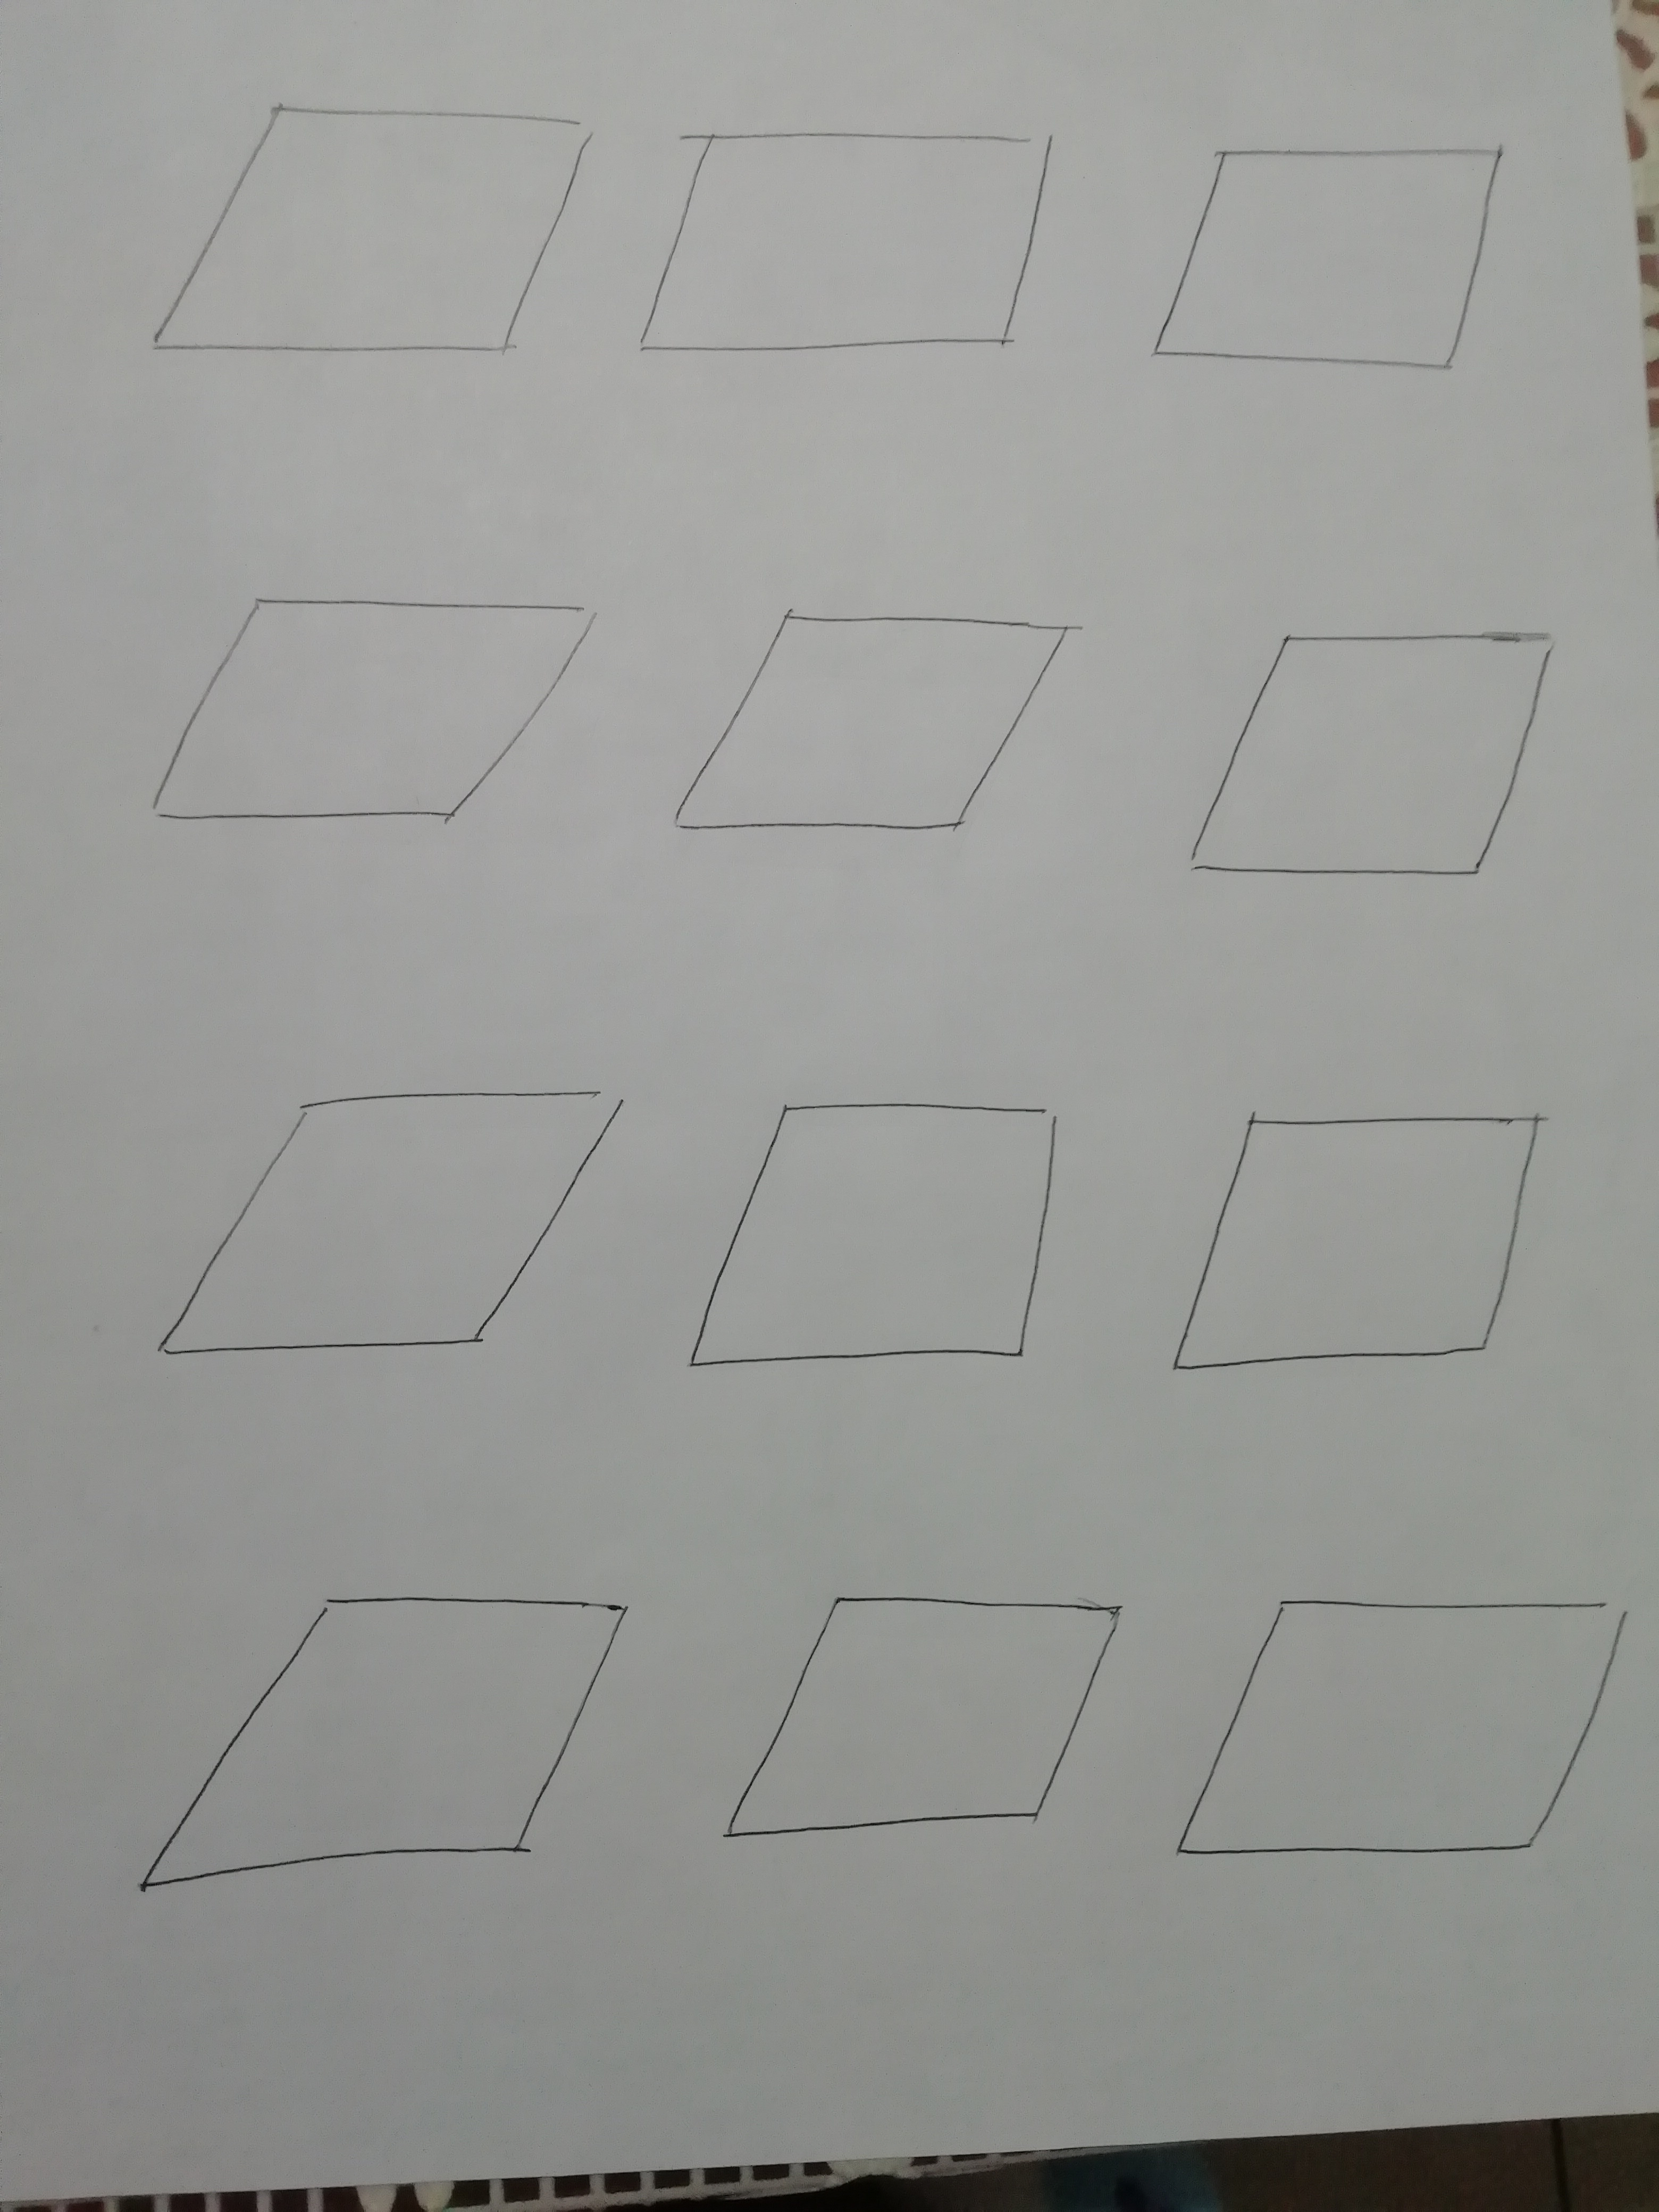scan: (112, 1531, 653, 1982), (101, 45, 615, 425), (118, 549, 633, 890), (626, 75, 1112, 425), (115, 1066, 640, 1390), (1164, 1564, 1643, 1911), (660, 1059, 1101, 1421), (650, 559, 1115, 897), (1136, 1071, 1582, 1421), (711, 1555, 1154, 1897), (1150, 592, 1600, 907), (1133, 106, 1540, 421)
